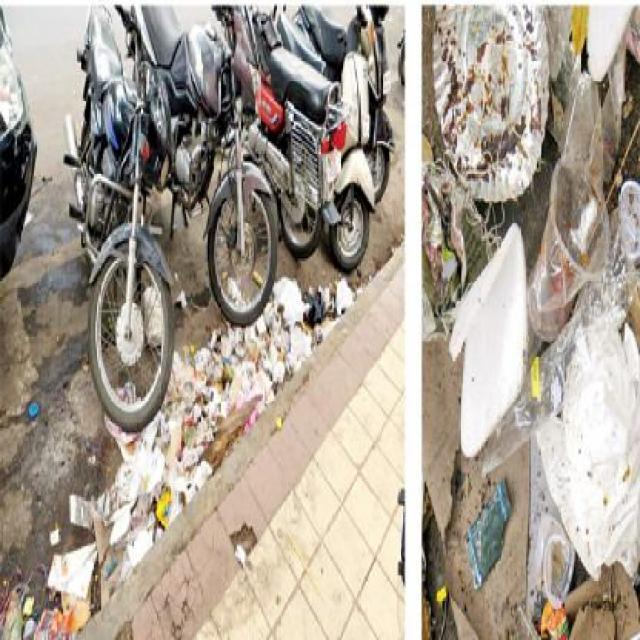garbage: (424, 10, 640, 637), (71, 432, 167, 553), (166, 348, 240, 470), (3, 545, 84, 639), (277, 262, 361, 309), (249, 312, 299, 390)
